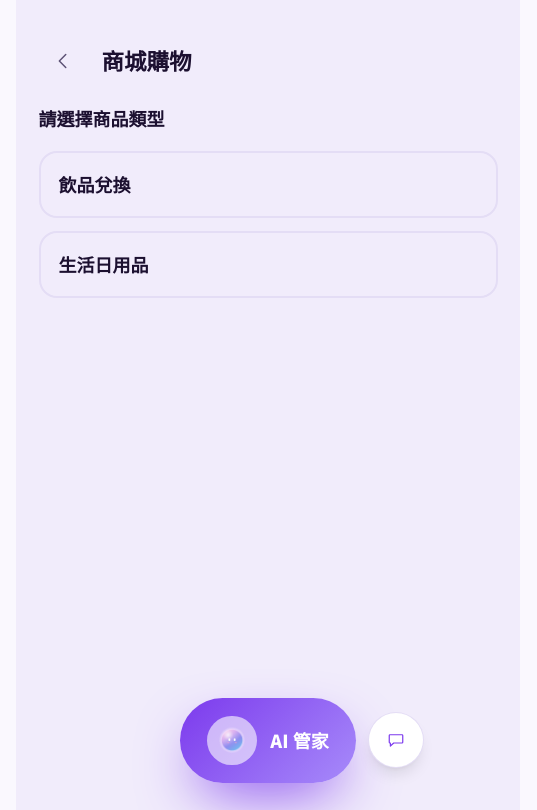
Test: ShopFlowPage › shows categories first, then fetches products for the selected category
Expected: the text "飲品兌換" is shown, [58,171,130,197]
Expected: the text "生活日用品" is shown, [58,251,148,277]
Click the button "飲品兌換": (94, 184) [38,151,498,218]
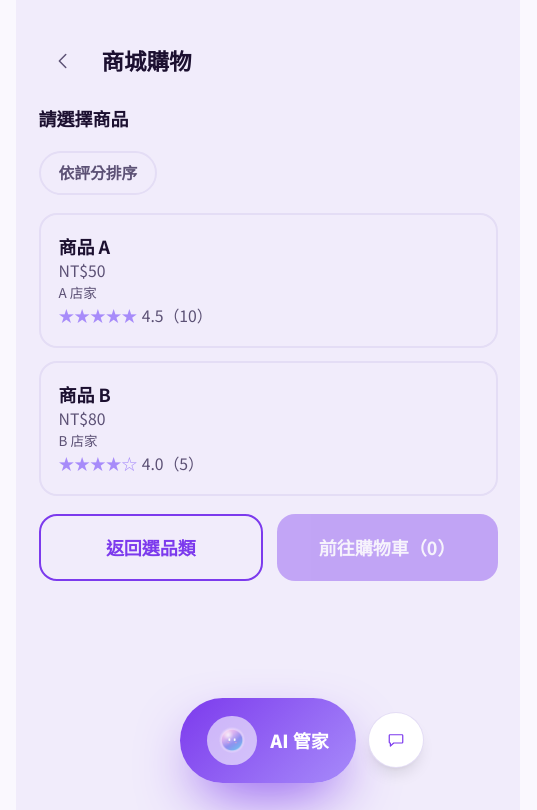
Expected: the text "商品 A" is shown, [58,233,110,259]
